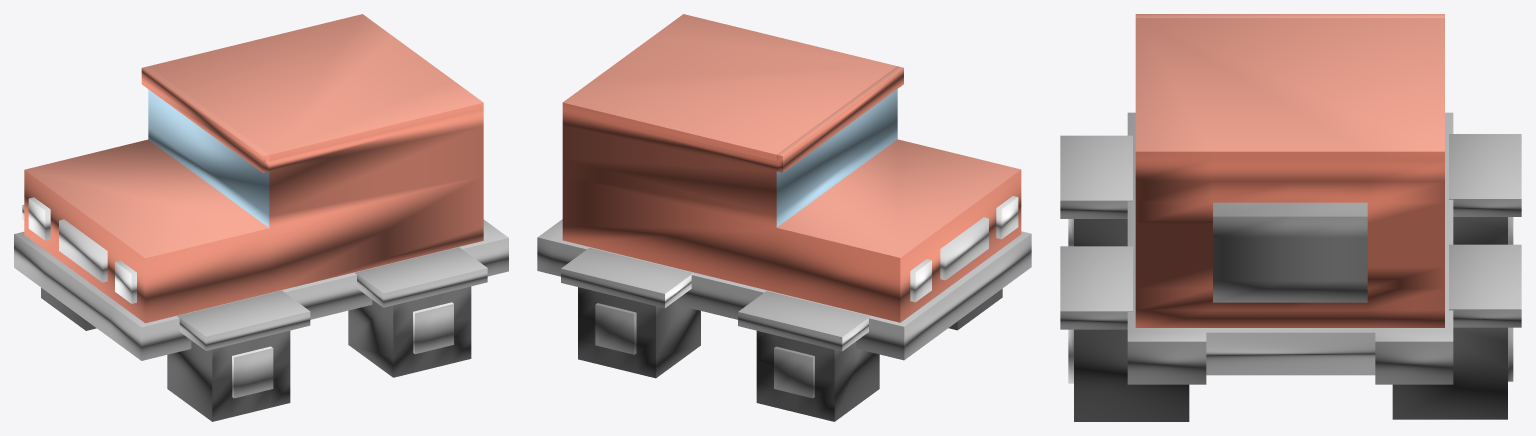
File: Car.fbx
3 renders of one model, left to right at view 1: azimuth 30°, elevation 25°; view 2: azimuth 150°, elevation 25°; view 3: azimuth 270°, elevation 25°, orthographic. The views are drawn at different scales.
Visible parts, largest first — view 1: Cube_011; view 2: Cube_011; view 3: Cube_011.
Boxes of the visible parts, bbox=[...] form: Cube_011: bbox=[14, 14, 508, 421]; Cube_011: bbox=[537, 14, 1031, 421]; Cube_011: bbox=[1060, 14, 1521, 421].
Bounding box in the file's own units: 3.67 × 2.19 × 3.12.
